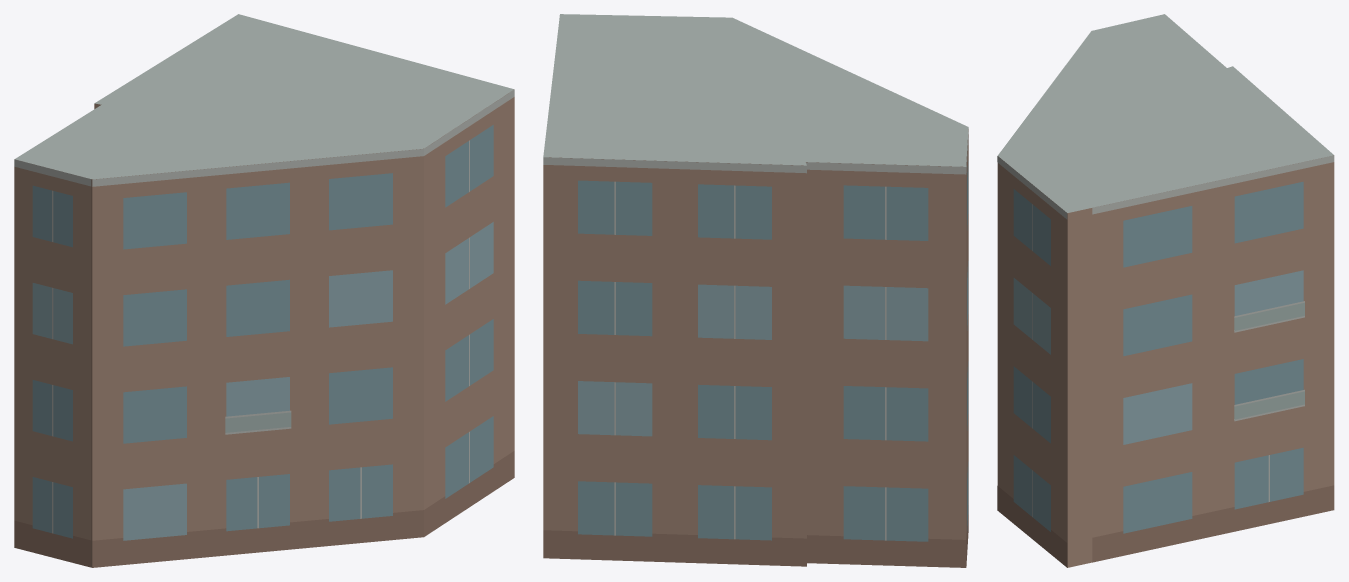
File: survey-upis-33044865.glb
3 views of the same model, side by side, from view 1: azimuth 30°, elevation 25°; view 2: azimuth 150°, elevation 25°; view 3: azimuth 270°, elevation 25° (orthographic). The views are drawn at different scales.
Parts seen in each view (by area): view 1: survey-upis-33044865.tmp; view 2: survey-upis-33044865.tmp; view 3: survey-upis-33044865.tmp.
Part boxes in pixels (box(x1,y1,x2,y2)): survey-upis-33044865.tmp: box(14, 14, 514, 567); survey-upis-33044865.tmp: box(543, 14, 968, 567); survey-upis-33044865.tmp: box(997, 14, 1334, 567).
Bounding box in the file's own units: 15.42 × 12.8 × 11.02.
